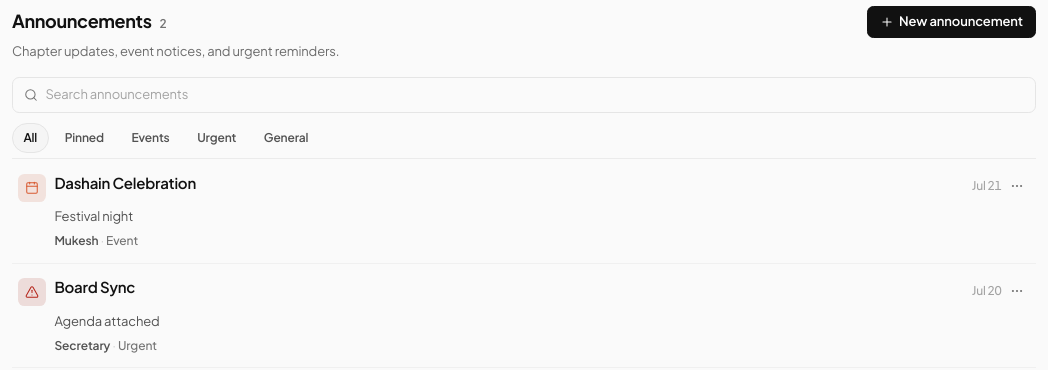
Test: AnnouncementsPage › filters the feed by category and search
Expected: the heading "Dashain Celebration" is shown, [54,173,196,192]
Click the button "Events". click: coordinates (151, 138)
box: [120,123,181,153]
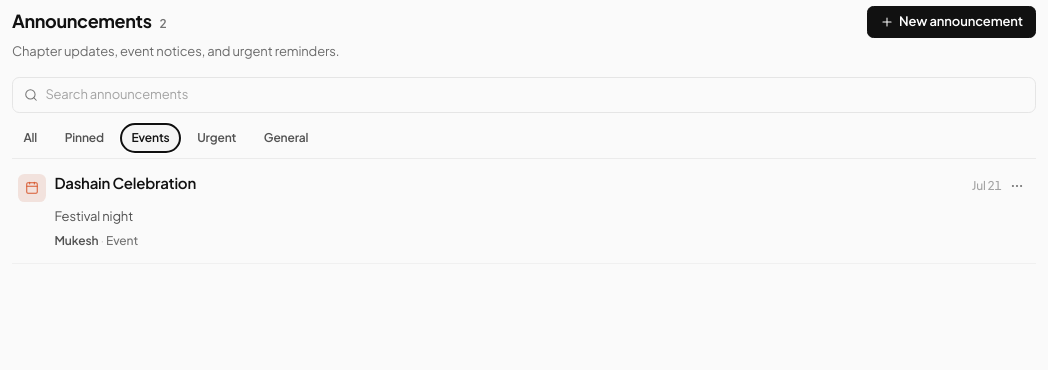
Expected: the heading "Dashain Celebration" is shown, [54,173,196,192]
Now the button "Board Sync" is gone
Click the button "All". click: coordinates (30, 138)
box: [12,123,48,153]
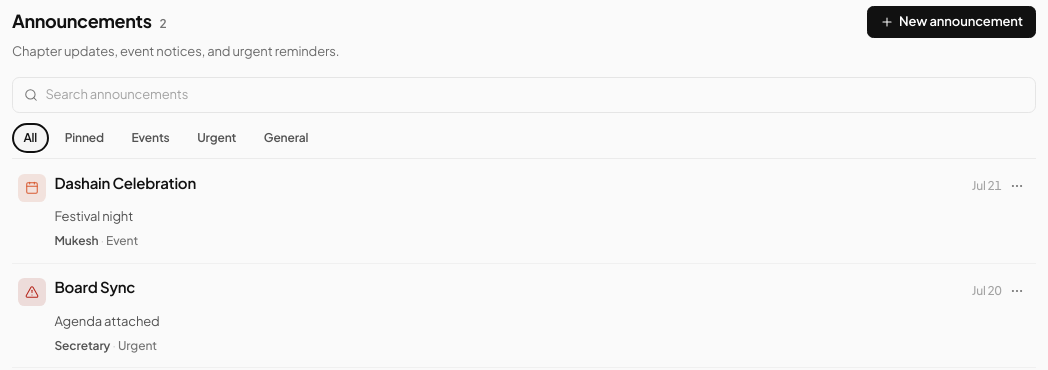
Type "board" into the search field with placeholder "Search announcements". click: coordinates (535, 95)
box: [45,85,1024,104]
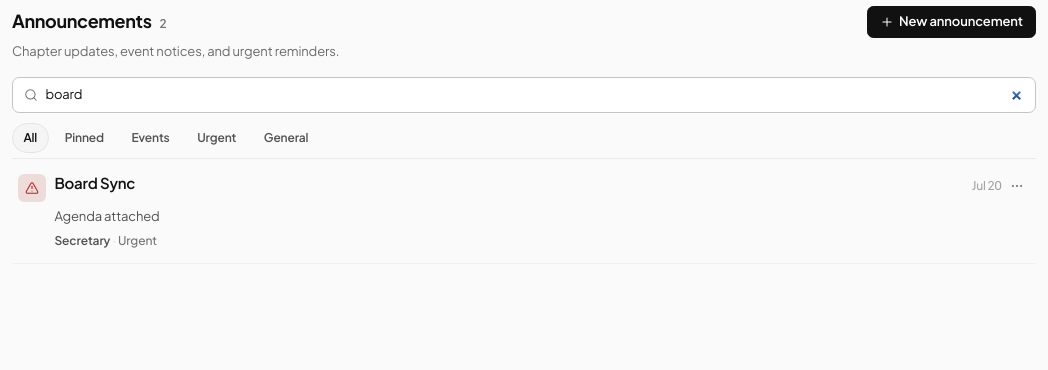
Now the heading "Board Sync" is shown, box [54,173,135,192]
Now the button "Dashain Celebration" is gone
